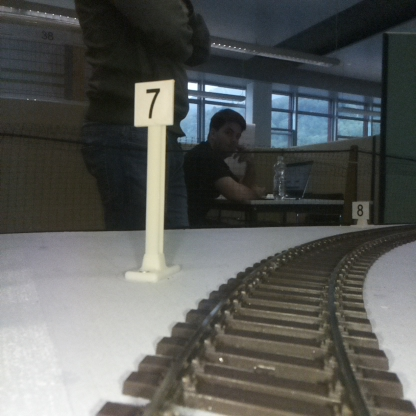white-info-7: (135, 80, 173, 280)
white-stop-8: (352, 201, 368, 226)
